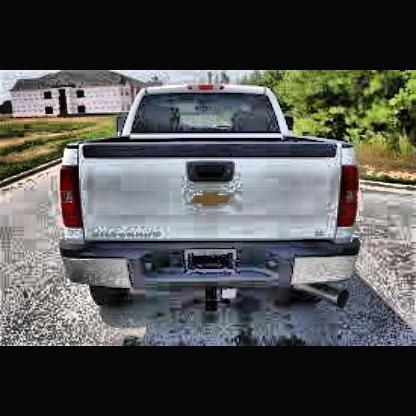Chevrolet Silverado 2500HD Regular Cab 2012: (61, 86, 365, 315)
